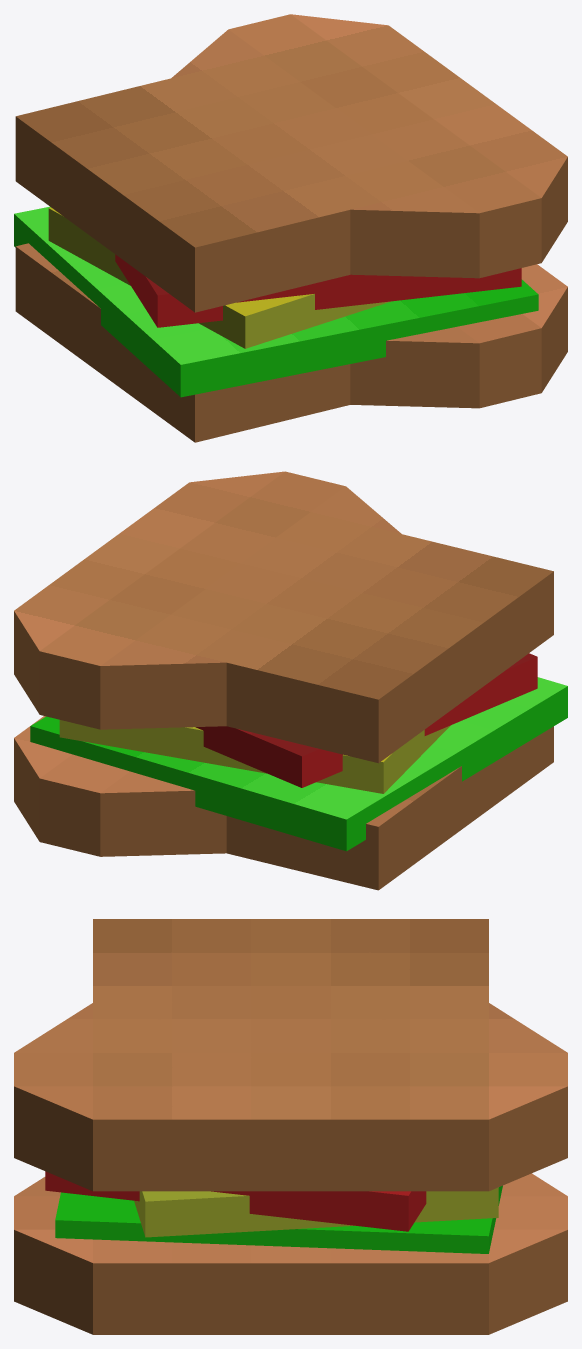
The model's file is bread.fbx.
3 renders of one model, top to bottom at view 1: azimuth 30°, elevation 25°; view 2: azimuth 150°, elevation 25°; view 3: azimuth 270°, elevation 25°, orthographic. The views are drawn at different scales.
Visible parts, largest first — view 1: bread_1, bread, salad, sos, cheese; view 2: bread_1, bread, salad, sos, cheese; view 3: bread_1, bread, salad, cheese, sos.
Boxes of the visible parts, x1,y1,x2,y2 form: bread_1: (15, 14, 567, 312); bread: (15, 243, 567, 442); salad: (14, 206, 538, 397); sos: (115, 254, 521, 327); cheese: (48, 207, 391, 348); bread_1: (14, 471, 553, 763); bread: (14, 716, 553, 890); salad: (30, 677, 567, 851); sos: (195, 653, 537, 787); cheese: (59, 720, 450, 793); bread_1: (14, 919, 567, 1191); bread: (14, 1173, 567, 1334); salad: (55, 1185, 502, 1253); cheese: (134, 1187, 498, 1237); sos: (45, 1171, 426, 1231).
Size of the model in its own units: 39.77 by 18.75 by 43.75.
Materials: 4 (4 with a texture image).
